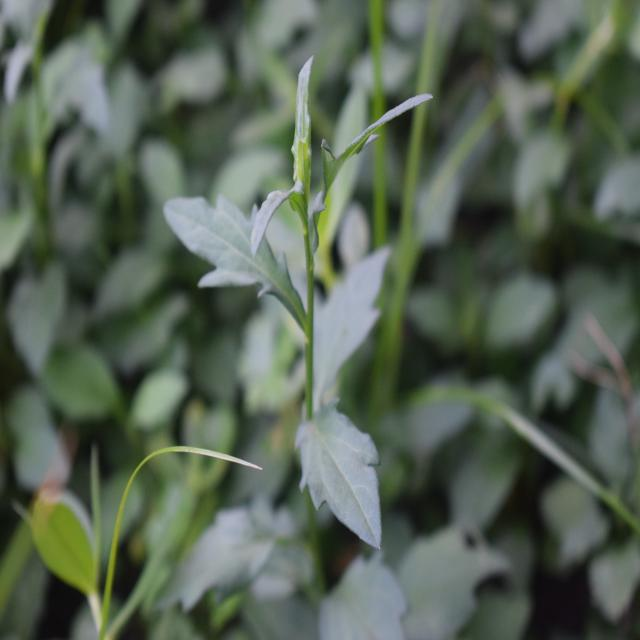Indian aster: (197, 69, 427, 546)
